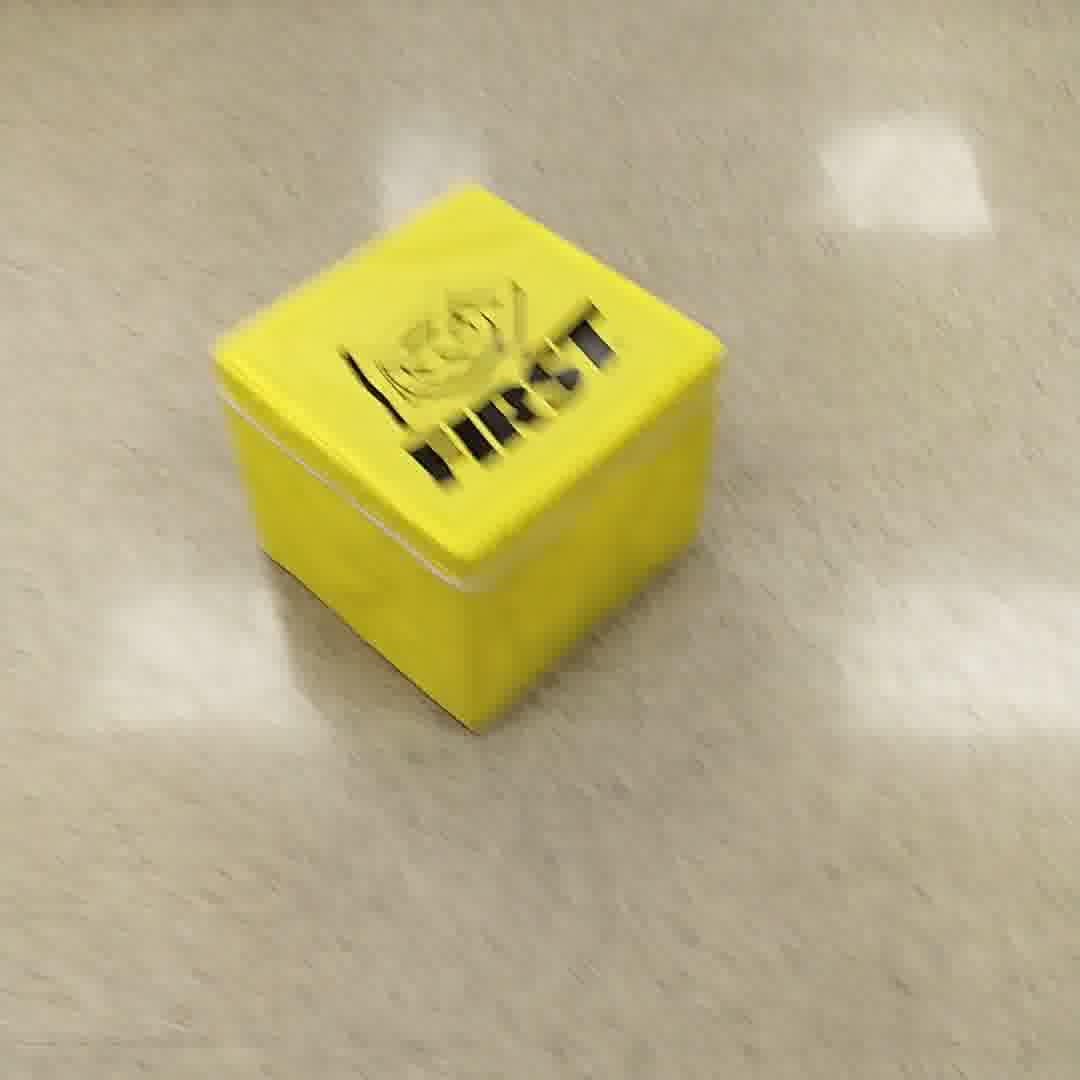box: (203, 196, 723, 735)
